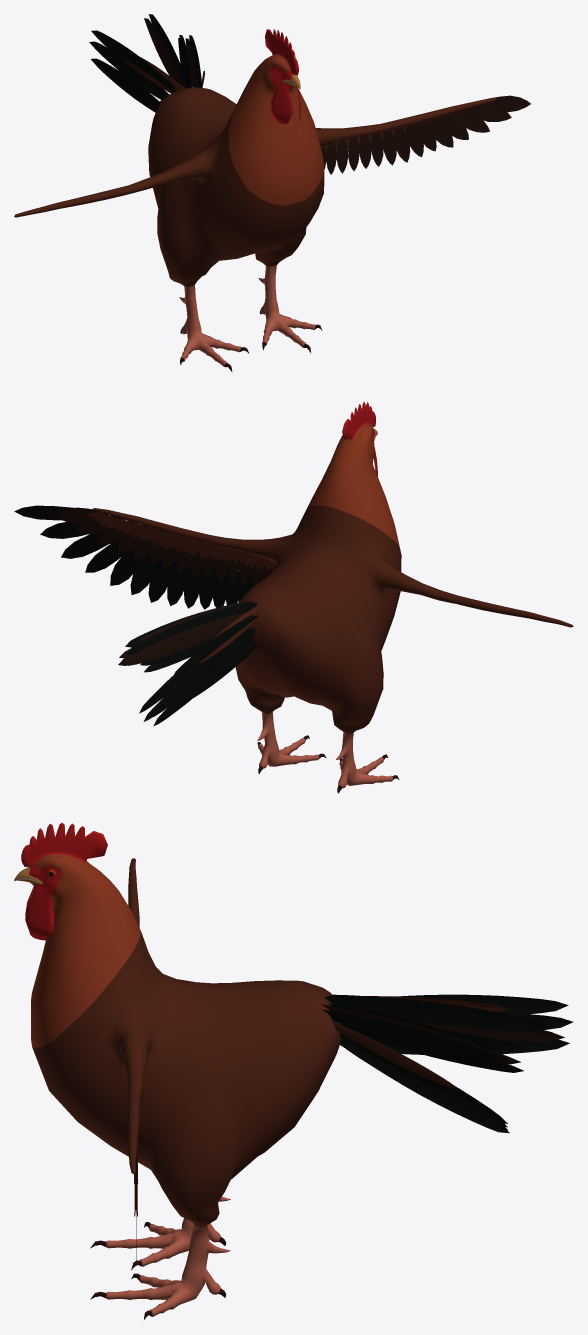
The model's file is rooster.obj.
3 views of the same model, one above another, from view 1: azimuth 30°, elevation 25°; view 2: azimuth 150°, elevation 25°; view 3: azimuth 270°, elevation 25° (orthographic). The views are drawn at different scales.
Parts seen in each view (by area): view 1: cock, feather_tail_primary_018, feather_tail_primary_016, feather_tail_primary_012, feather_tail_primary_007, feather_flight_secondary_032, feather_tail_primary_008, feather_flight_secondary_031, feather_flight_secondary_030, feather_tail_primary_003, feather_flight_secondary_028; view 2: cock, feather_tail_primary_007, feather_tail_primary_008, feather_tail_primary_018, feather_tail_primary_016, feather_tail_primary_012, feather_flight_primary_010, feather_flight_primary_012, feather_flight_primary_011, feather_flight_primary_014, feather_flight_primary_013, feather_flight_primary_016 (+4 smaller); view 3: cock, feather_tail_primary_008, feather_tail_primary_001, feather_tail_primary_013, feather_tail_primary_012, feather_tail_primary_010, feather_tail_primary_004, feather_tail_primary_007, feather_tail_primary_014, feather_tail_primary_018, feather_tail_primary_002, feather_tail_primary_009 (+2 smaller).
Part boxes in pixels (x1,y1,x2,y2): cock: [14, 29, 497, 371]; feather_tail_primary_018: [91, 58, 160, 112]; feather_tail_primary_016: [89, 41, 169, 100]; feather_tail_primary_012: [91, 30, 176, 93]; feather_tail_primary_007: [144, 18, 182, 86]; feather_flight_secondary_032: [479, 95, 530, 112]; feather_tail_primary_008: [148, 14, 187, 88]; feather_flight_secondary_031: [463, 104, 511, 121]; feather_flight_secondary_030: [450, 110, 489, 132]; feather_tail_primary_003: [119, 55, 184, 93]; feather_flight_secondary_028: [427, 118, 453, 147]; cock: [92, 401, 573, 793]; feather_tail_primary_007: [122, 612, 246, 665]; feather_tail_primary_008: [126, 601, 257, 654]; feather_tail_primary_018: [171, 643, 257, 708]; feather_tail_primary_016: [170, 628, 255, 693]; feather_tail_primary_012: [171, 614, 257, 679]; feather_flight_primary_010: [148, 558, 176, 602]; feather_flight_primary_012: [110, 548, 146, 585]; feather_flight_primary_011: [130, 552, 162, 594]; feather_flight_primary_014: [61, 522, 135, 558]; feather_flight_primary_013: [85, 540, 127, 572]; feather_flight_primary_016: [14, 505, 108, 520]; cock: [14, 822, 341, 1319]; feather_tail_primary_008: [325, 994, 552, 1031]; feather_tail_primary_001: [322, 1009, 499, 1058]; feather_tail_primary_013: [339, 1034, 507, 1127]; feather_tail_primary_012: [396, 994, 568, 1015]; feather_tail_primary_010: [341, 1024, 523, 1072]; feather_tail_primary_004: [331, 1020, 457, 1087]; feather_tail_primary_007: [413, 1021, 564, 1041]; feather_tail_primary_014: [341, 1040, 509, 1133]; feather_tail_primary_018: [340, 1039, 569, 1054]; feather_tail_primary_002: [321, 1004, 489, 1050]; feather_tail_primary_009: [340, 1033, 465, 1097].
Bounding box in the file's own units: 0.7354 × 0.4252 × 0.4765.
